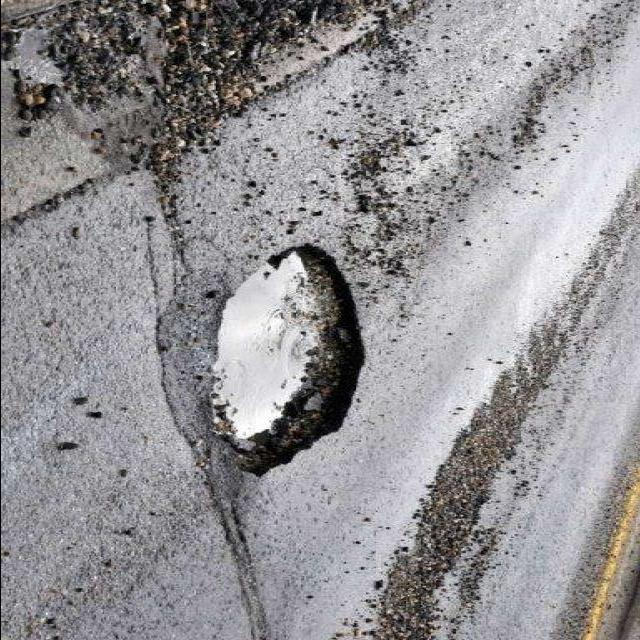jalan retak: (121, 165, 304, 639)
lubang: (188, 228, 384, 480)
